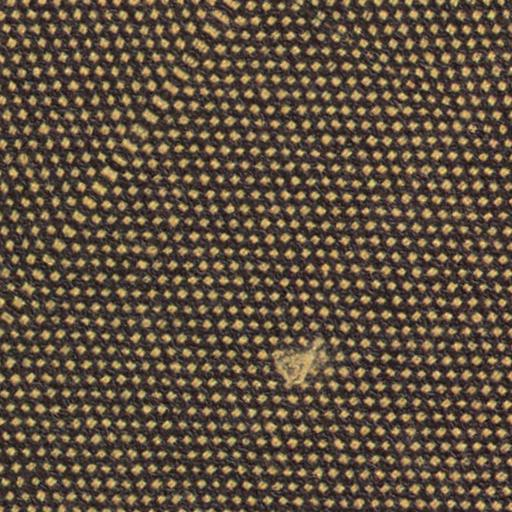knot: (255, 340, 335, 391)
